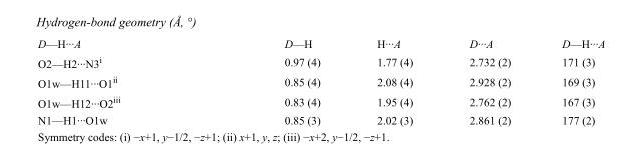table: (37, 36, 604, 125)
table column: (37, 36, 201, 125), (201, 36, 347, 125), (440, 36, 535, 125), (347, 36, 440, 125), (535, 36, 604, 125)
table row: (37, 51, 604, 71), (37, 71, 604, 91), (37, 91, 604, 111), (37, 36, 604, 51), (37, 111, 604, 125)
